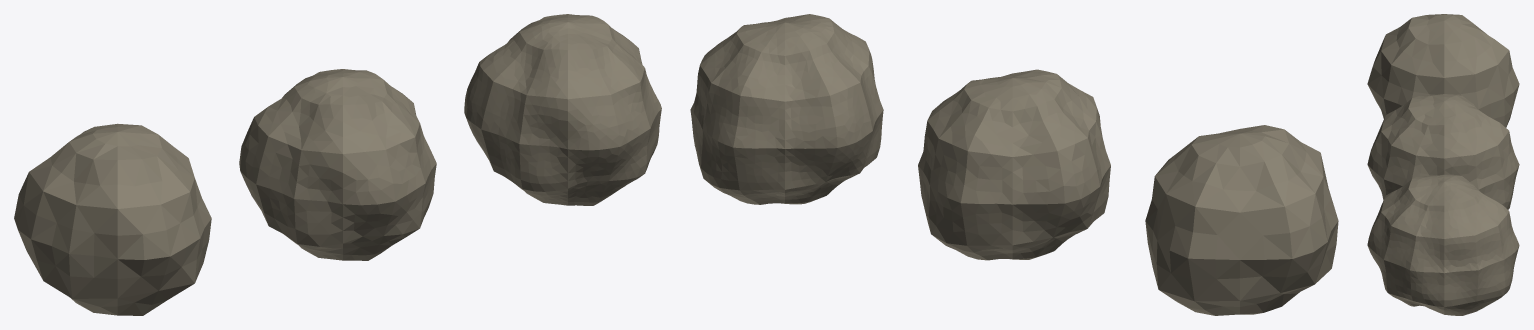
The model's file is resolution_steps.glb.
3 renders of one model, left to right at view 1: azimuth 30°, elevation 25°; view 2: azimuth 150°, elevation 25°; view 3: azimuth 270°, elevation 25°, orthographic. The views are drawn at different scales.
Parts seen in each view (by area): view 1: stone; view 2: stone; view 3: stone.
Boxes of the visible parts, box(x1,y1,x2,y2) form: stone: box(14, 14, 661, 315); stone: box(690, 14, 1338, 315); stone: box(1367, 14, 1519, 315).
Bounding box in the file's own units: 0.219 × 0.058 × 0.0639.
